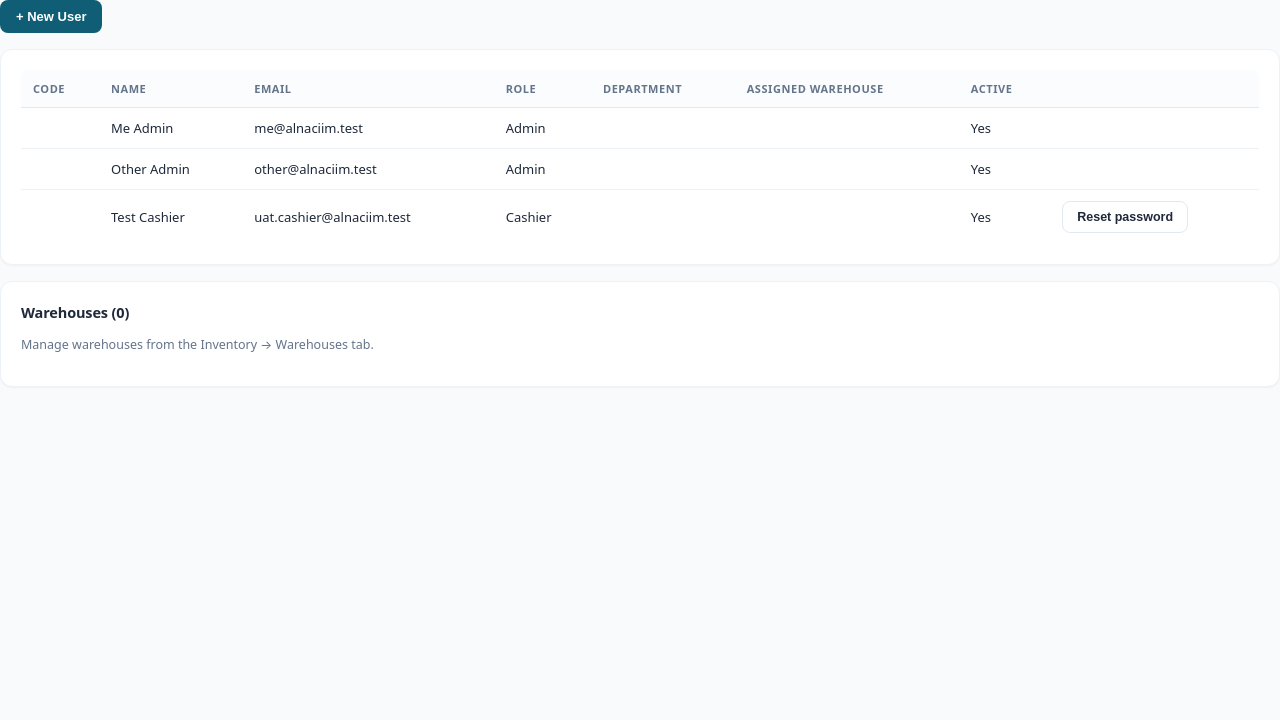
Settings → Users reset button › is offered for non-Admin users only, never for my own account or another Admin
Click the button with aria-label "Reset password for". click: (1125, 217)
box: [1062,201,1188,233]
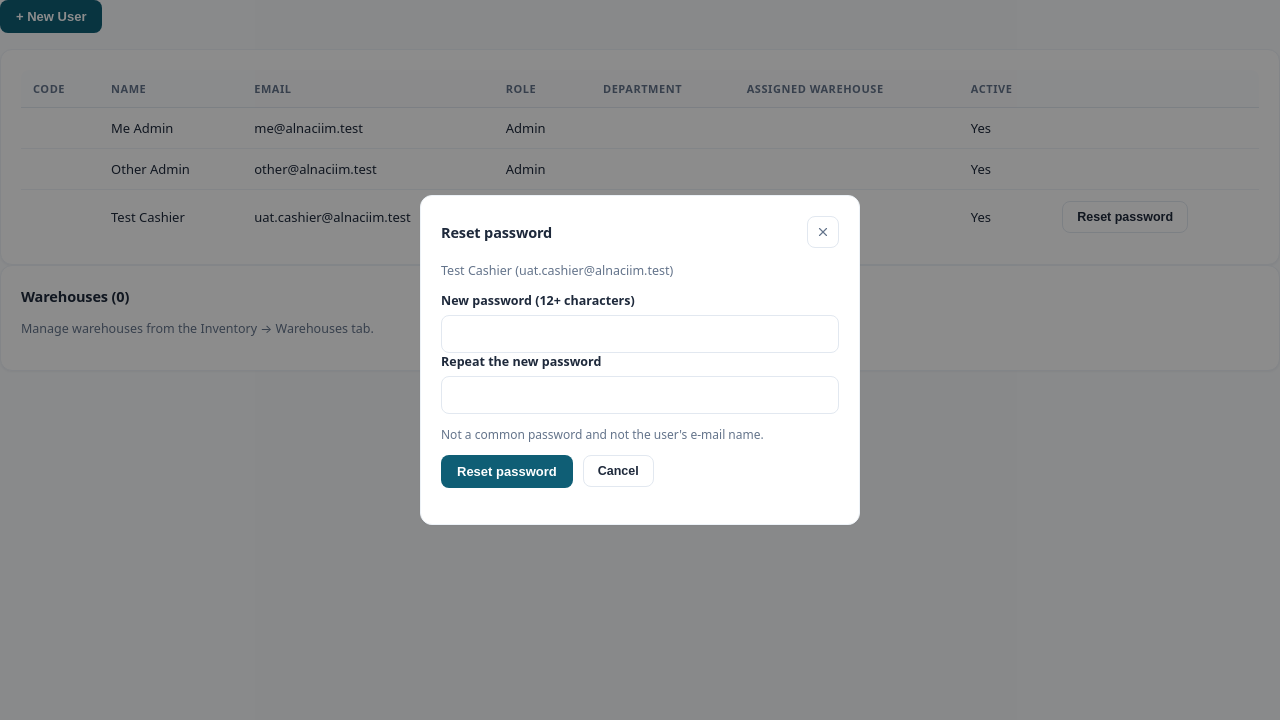
Result: the text "Test Cashier (uat.cashier@alnaciim.test)" is shown at [441,262,673,279]
